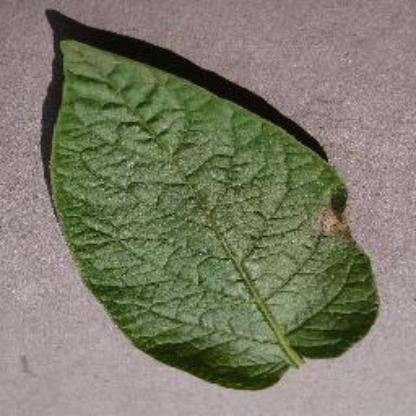Late-Blight: (38, 22, 386, 396)
